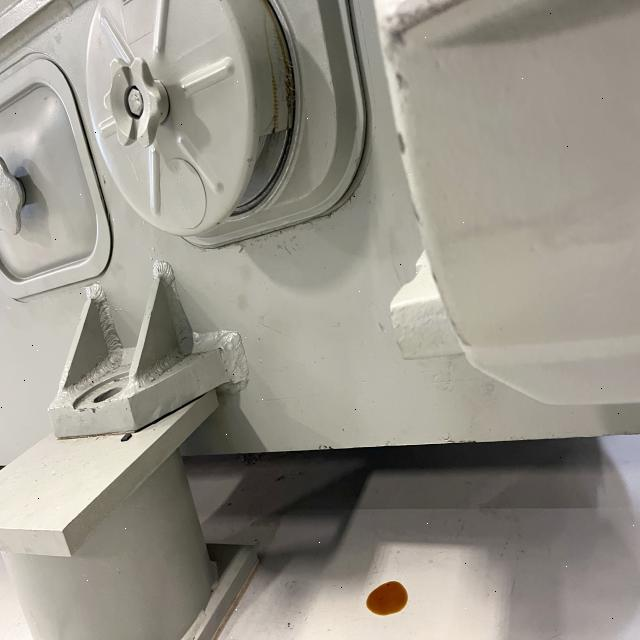Oil Leak: (250, 0, 318, 206), (361, 575, 414, 624)
